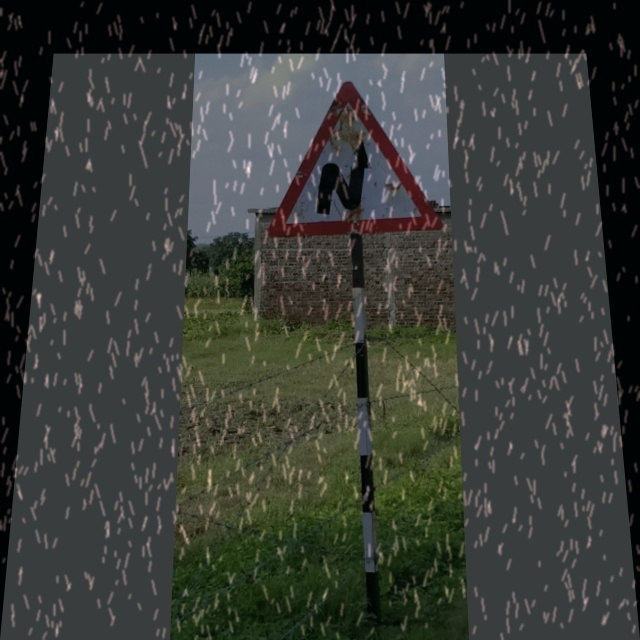Right_Reverse_Bend: (270, 81, 443, 234)
